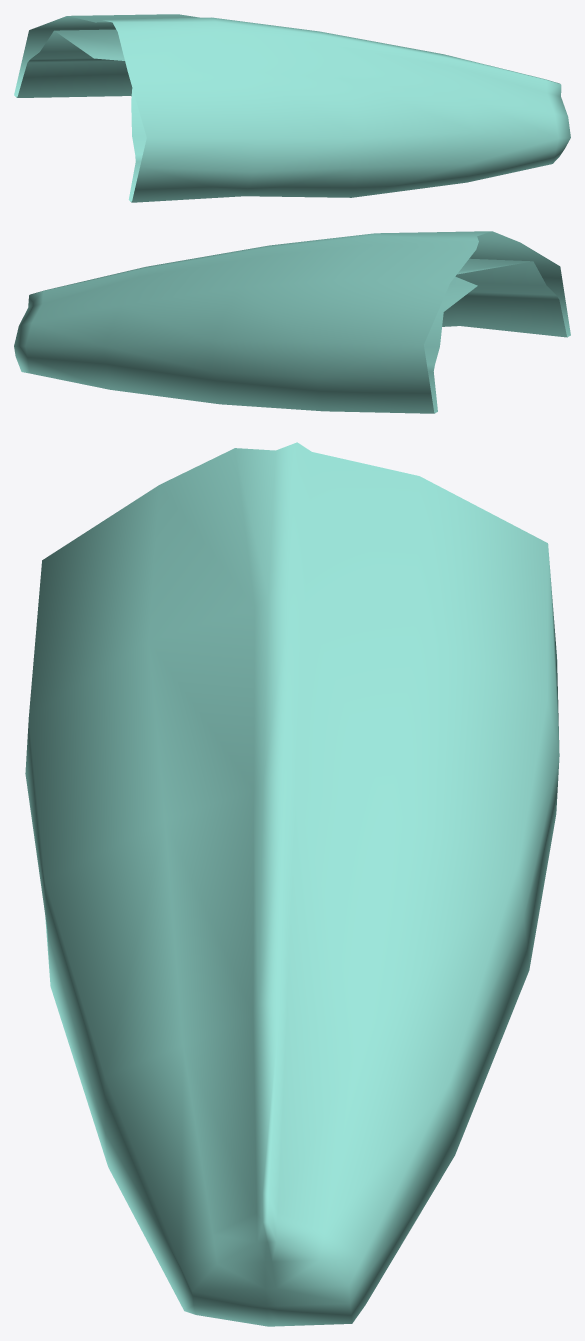
The model's file is Front broken ship.FBX.
The picture shows the model from 3 angles, top to bottom: view 1: azimuth 30°, elevation 25°; view 2: azimuth 150°, elevation 25°; view 3: azimuth 270°, elevation 25°; orthographic projection. The views are drawn at different scales.
Parts seen in each view (by area): view 1: Box014; view 2: Box014; view 3: Box014.
Boxes of the visible parts, x1,y1,x2,y2 form: Box014: (14,14,570,202); Box014: (14,231,570,413); Box014: (25,442,559,1326).
Bounding box in the file's own units: 199 × 89.86 × 95.19.
